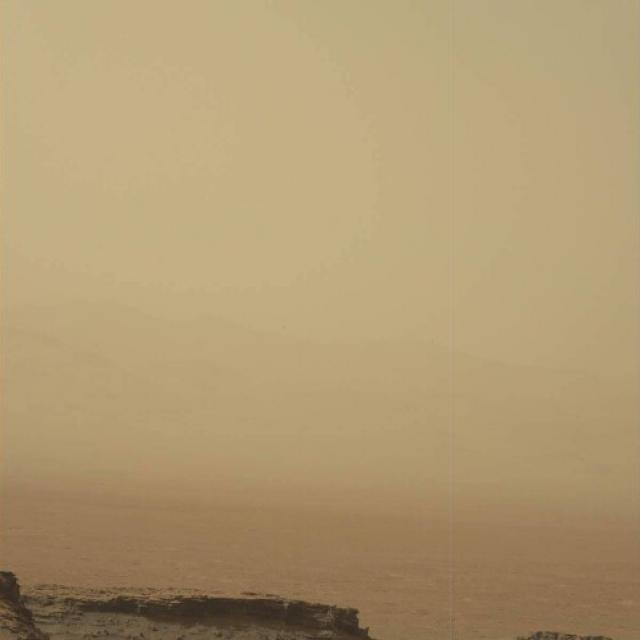rock: (0, 563, 389, 640)
